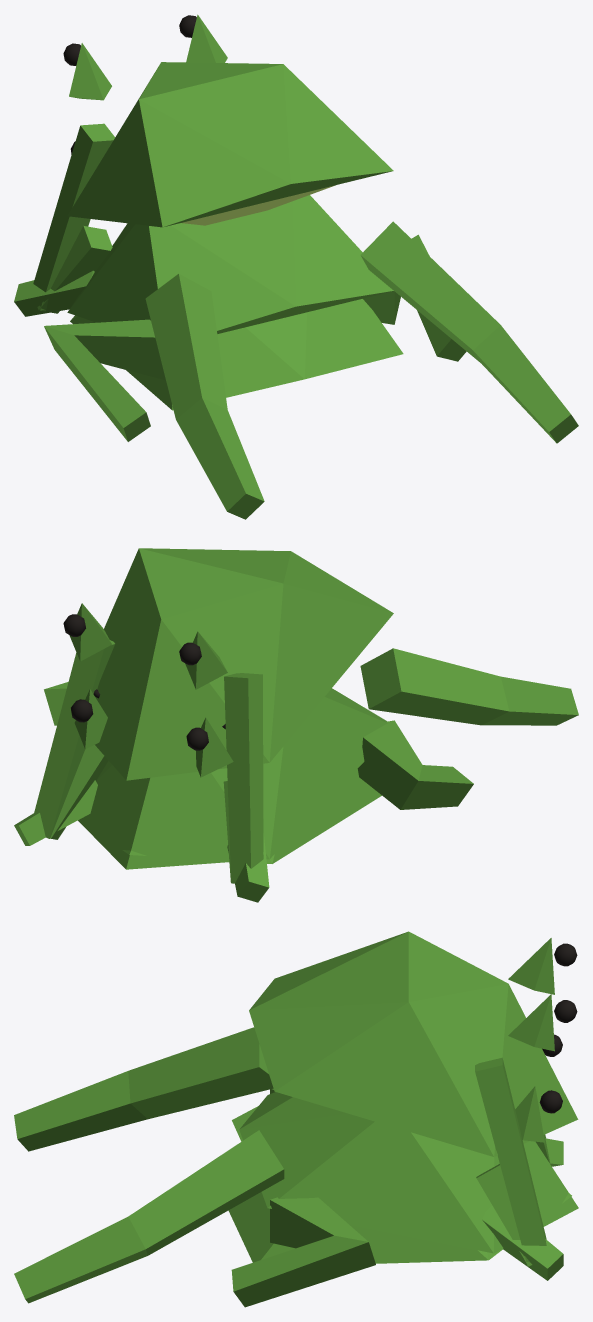
Rendered from pet_frog.glb.
The picture shows the model from 3 angles, top to bottom: view 1: azimuth 30°, elevation 25°; view 2: azimuth 150°, elevation 25°; view 3: azimuth 270°, elevation 25°; orthographic projection.
Visible parts, largest first — view 1: body, body.001, leg_br, body.002, leg_bl, leg_br.001, leg_fr, head, leg_fr.001, leg_bl.001, leg_fr.002; view 2: body, body.001, leg_br, leg_fr, leg_br.001, leg_fl, head, head.001, body.002, leg_fl.001, leg_fl.002, leg_fr.002 (+1 smaller); view 3: body, body.001, leg_br, leg_bl, leg_bl.001, leg_fl, body.002, head, leg_fl.002, head.001, leg_fl.001.
Boxes of the visible parts, x1,y1,x2,y2 form: body: (67,62,393,227); body.001: (67,195,393,333); leg_br: (145,273,264,519); body.002: (70,299,403,410); leg_bl: (360,221,578,443); leg_br.001: (44,319,165,441); leg_fr: (33,123,114,310); head: (63,14,227,100); leg_fr.001: (37,226,112,313); leg_bl.001: (363,234,466,361); leg_fr.002: (14,270,94,316); body: (95,548,393,780); body.001: (78,688,387,869); leg_br: (360,648,578,725); leg_fr: (224,673,263,883); leg_br.001: (357,720,473,809); leg_fl: (33,640,114,838); head: (63,603,227,689); head.001: (71,689,233,777); body.002: (122,769,381,863); leg_fl.001: (50,745,108,839); leg_fl.002: (14,780,97,845); leg_fr.002: (227,833,269,902); body: (249,931,578,1156); body.001: (239,1092,578,1253); leg_br: (14,1027,273,1151); leg_bl: (14,1130,284,1303); leg_bl.001: (231,1197,375,1307); leg_fl: (475,1057,546,1266); body.002: (228,1192,571,1263); head: (508,938,577,1051); leg_fl.002: (482,1205,563,1280); head.001: (515,1034,562,1142); leg_fl.001: (476,1164,532,1266).
Bounding box in the file's own units: 0.2591 × 0.1822 × 0.3383.
